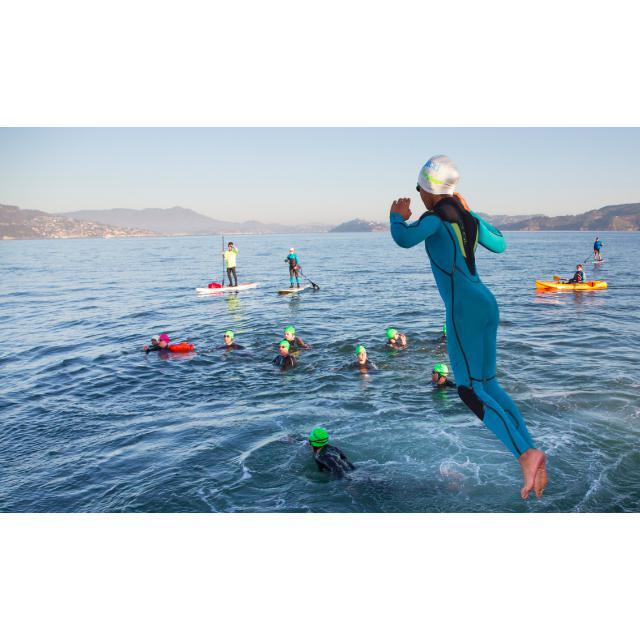human: (309, 421, 354, 477), (137, 328, 173, 353), (211, 328, 247, 351), (269, 340, 295, 368), (427, 361, 450, 389), (385, 325, 408, 350), (279, 323, 305, 345), (353, 343, 374, 369)
